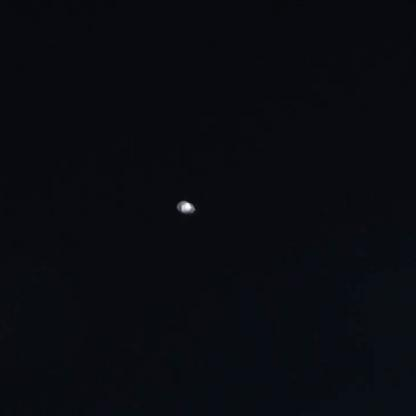ball: (172, 196, 198, 219)
